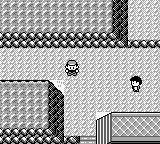main: (65, 61, 79, 76)
no-caminable: (0, 0, 128, 47), (1, 81, 64, 143), (97, 112, 159, 143)
npc: (130, 76, 142, 92)
salto: (129, 40, 159, 47), (65, 137, 79, 143)
